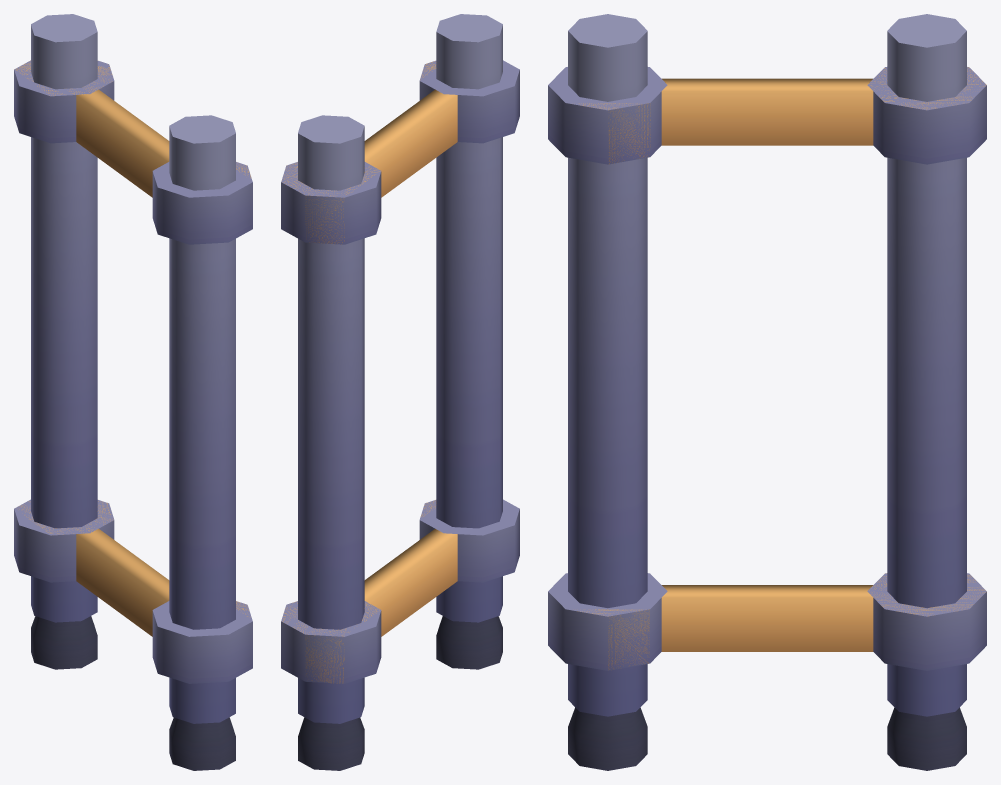
Rendered from structure-yellow-tall.glb.
The picture shows the model from 3 angles, left to right: view 1: azimuth 30°, elevation 25°; view 2: azimuth 150°, elevation 25°; view 3: azimuth 270°, elevation 25°; orthographic projection. The views are drawn at different scales.
Parts seen in each view (by area): view 1: structure-yellow-tall; view 2: structure-yellow-tall; view 3: structure-yellow-tall.
Boxes of the visible parts, <box> form: structure-yellow-tall: <box>14,14,252,770</box>; structure-yellow-tall: <box>281,14,519,770</box>; structure-yellow-tall: <box>548,14,986,770</box>.
Bounding box in the file's own units: 0.3001 × 2 × 1.1.
Materials: 1 (1 with a texture image).
